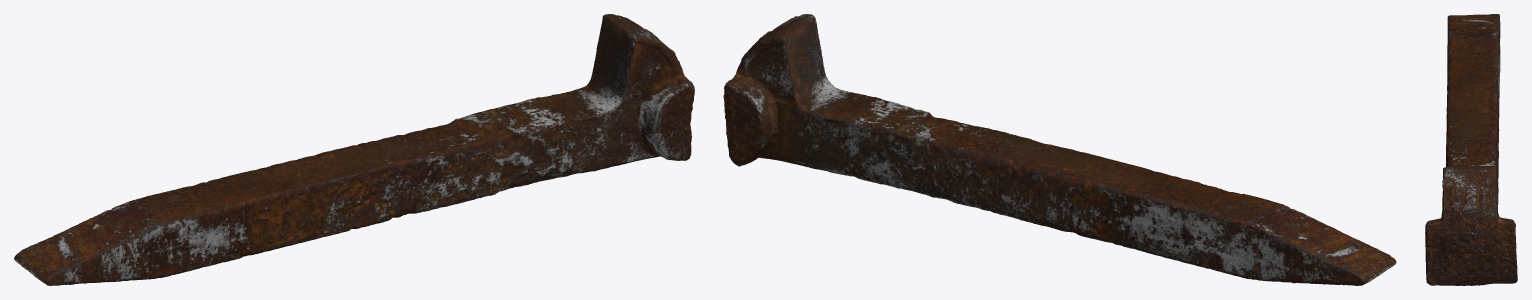
File: Stake.glb
The picture shows the model from 3 angles, left to right: view 1: azimuth 30°, elevation 25°; view 2: azimuth 150°, elevation 25°; view 3: azimuth 270°, elevation 25°; orthographic projection. The views are drawn at different scales.
Parts seen in each view (by area): view 1: tkqmdbnhw_LOD0_TIER0_000_MatID_1_0; view 2: tkqmdbnhw_LOD0_TIER0_000_MatID_1_0; view 3: tkqmdbnhw_LOD0_TIER0_000_MatID_1_0.
Part boxes in pixels (box(x1,y1,x2,y2)): tkqmdbnhw_LOD0_TIER0_000_MatID_1_0: box(14, 14, 694, 285); tkqmdbnhw_LOD0_TIER0_000_MatID_1_0: box(723, 14, 1396, 285); tkqmdbnhw_LOD0_TIER0_000_MatID_1_0: box(1425, 14, 1517, 285).
Bounding box in the file's own units: 0.1704 × 0.0332 × 0.0264.
1 material, 1 textured.
